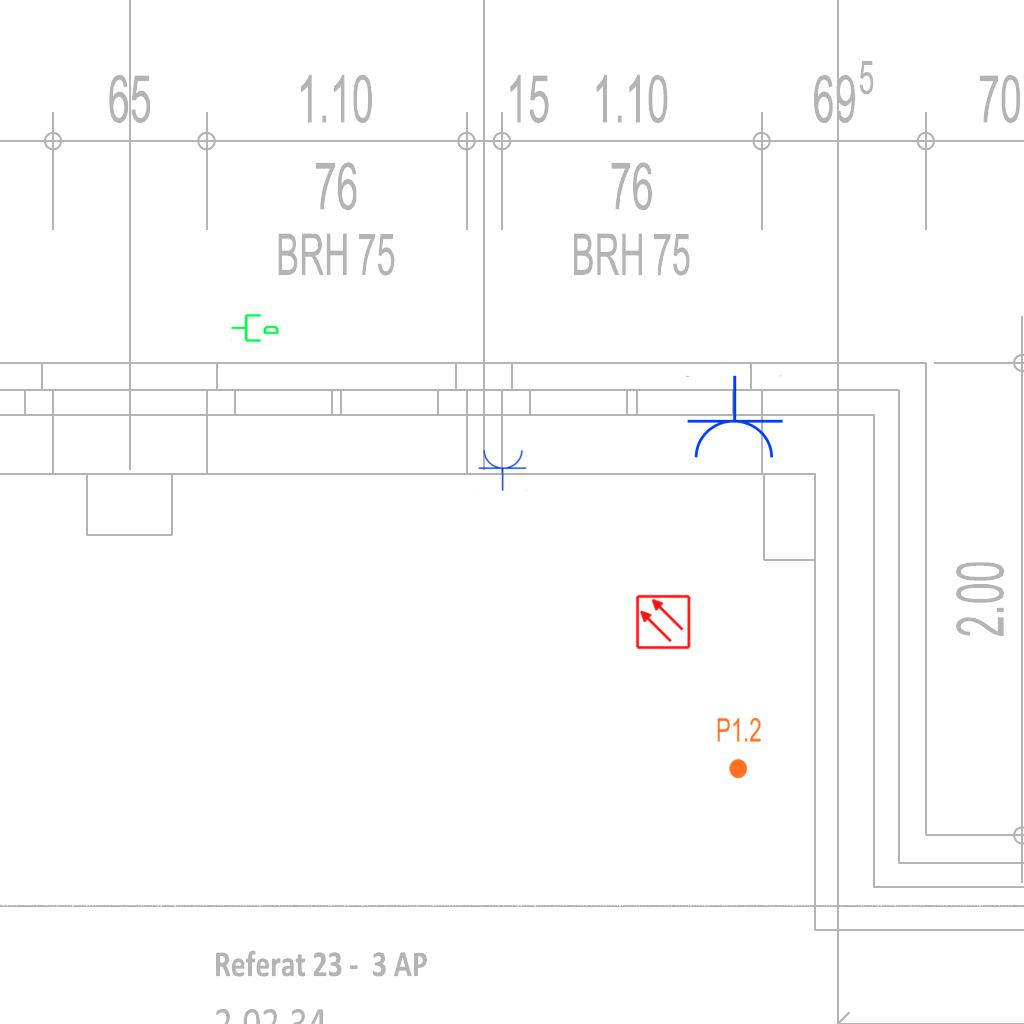Datenanschluss_einfach: (230, 310, 280, 344)
Downlight_LED_Einbauleuchten_Flur: (716, 716, 762, 780)
RMO_Rauchmelder_optischer: (635, 594, 691, 650)
Schukosteckdose_einfach: (684, 375, 784, 462), (478, 448, 528, 491)
